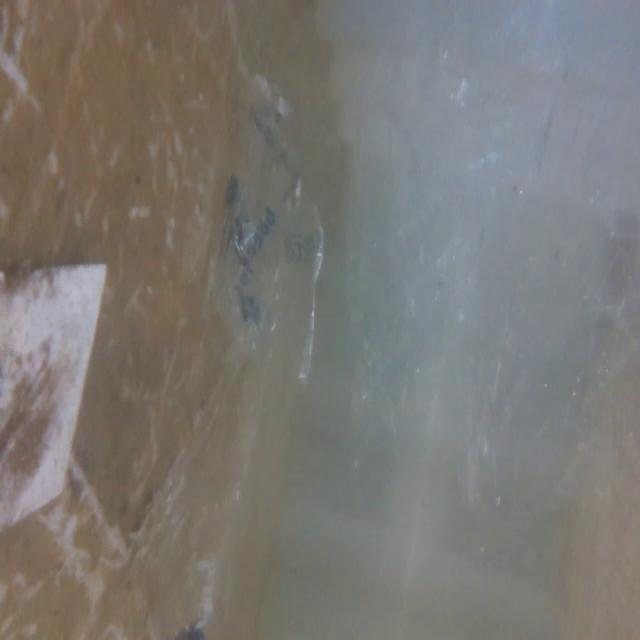plastic bags: (210, 74, 327, 386)
